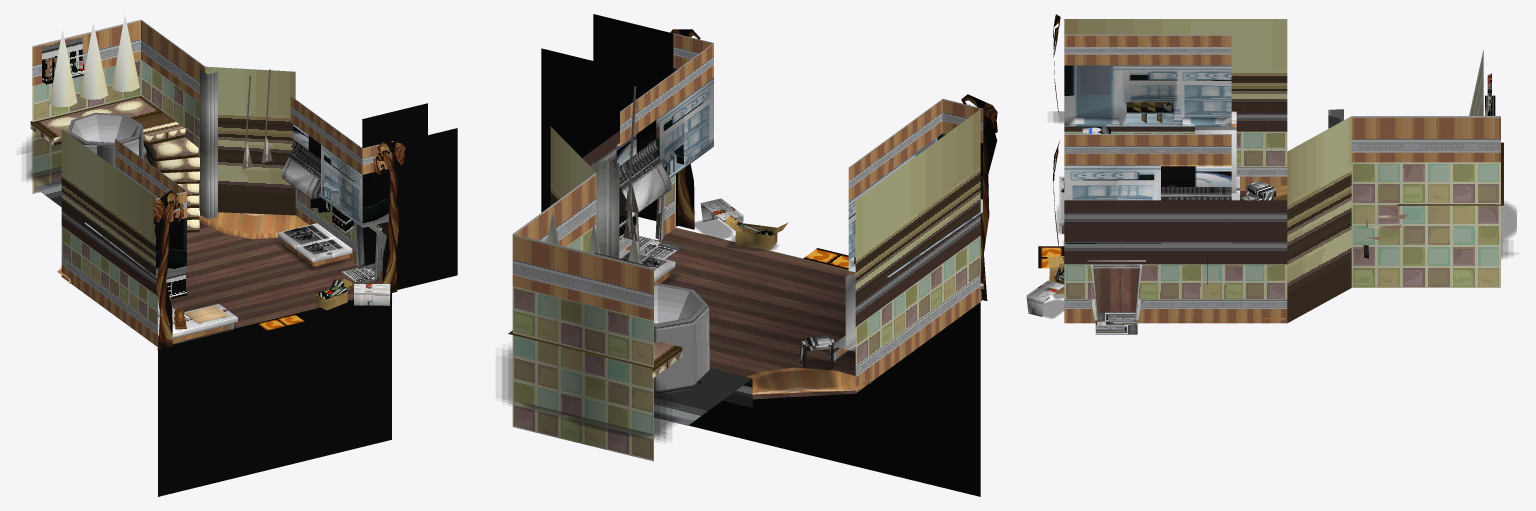
3 views of the same model, side by side, from view 1: azimuth 30°, elevation 25°; view 2: azimuth 150°, elevation 25°; view 3: azimuth 270°, elevation 25° (orthographic). The views are drawn at different scales.
Visible parts, largest first — view 1: kb_system_cook; view 2: kb_system_cook; view 3: kb_system_cook.
Part boxes in pixels (bbox=[...]): kb_system_cook: bbox=[21, 15, 457, 496]; kb_system_cook: bbox=[502, 14, 997, 496]; kb_system_cook: bbox=[1026, 14, 1516, 334].
Size of the model in its own units: 4.01 by 3.99 by 4.74.
39 materials, 39 textured.
